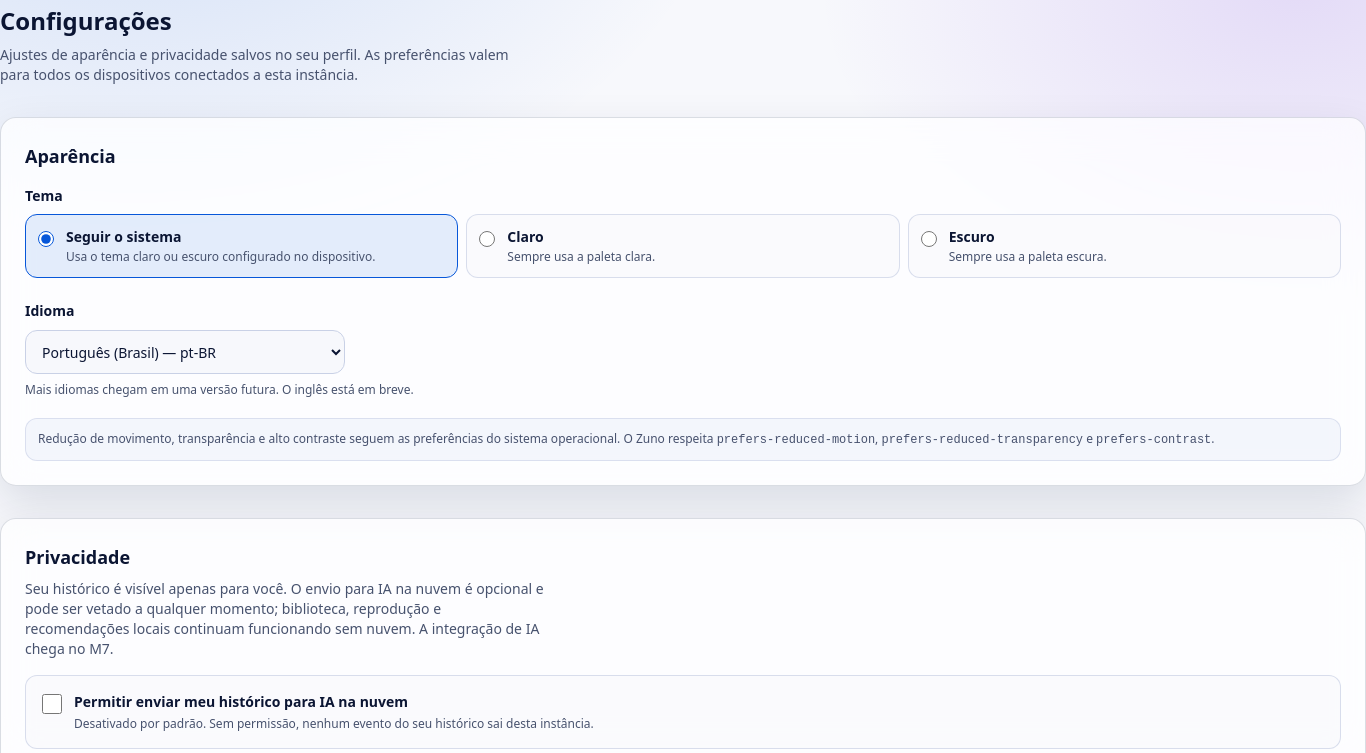
Test: SettingsView › reverte o consentimento e anuncia o erro quando o PUT falha
Click the checkbox labelled "Permitir enviar meu histórico". click: (52, 704)
box: x1=42 y1=694 x2=62 y2=714
(page scrolled)
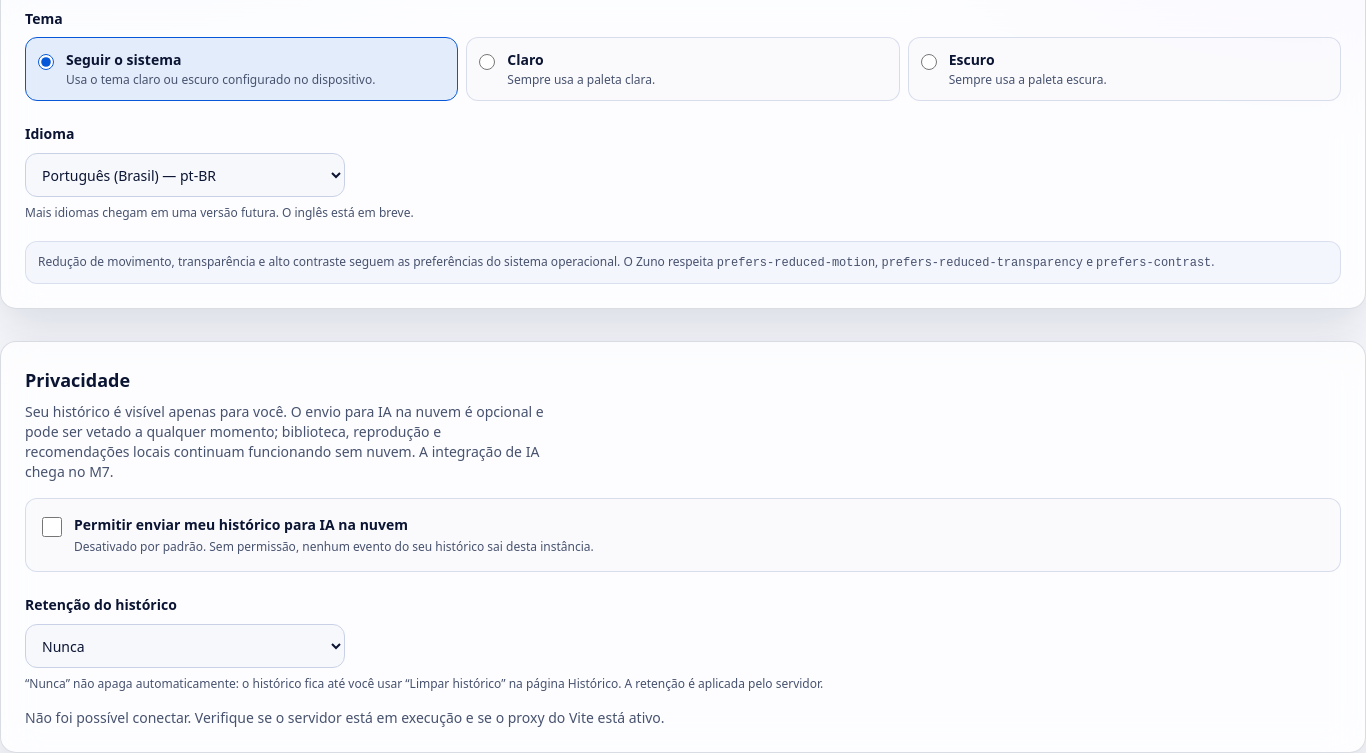
Expected: the checkbox labelled "Permitir enviar meu histórico" is not checked, x1=42 y1=517 x2=62 y2=537
Expected: the text "Não foi possível conectar" is shown, x1=25 y1=708 x2=665 y2=727
